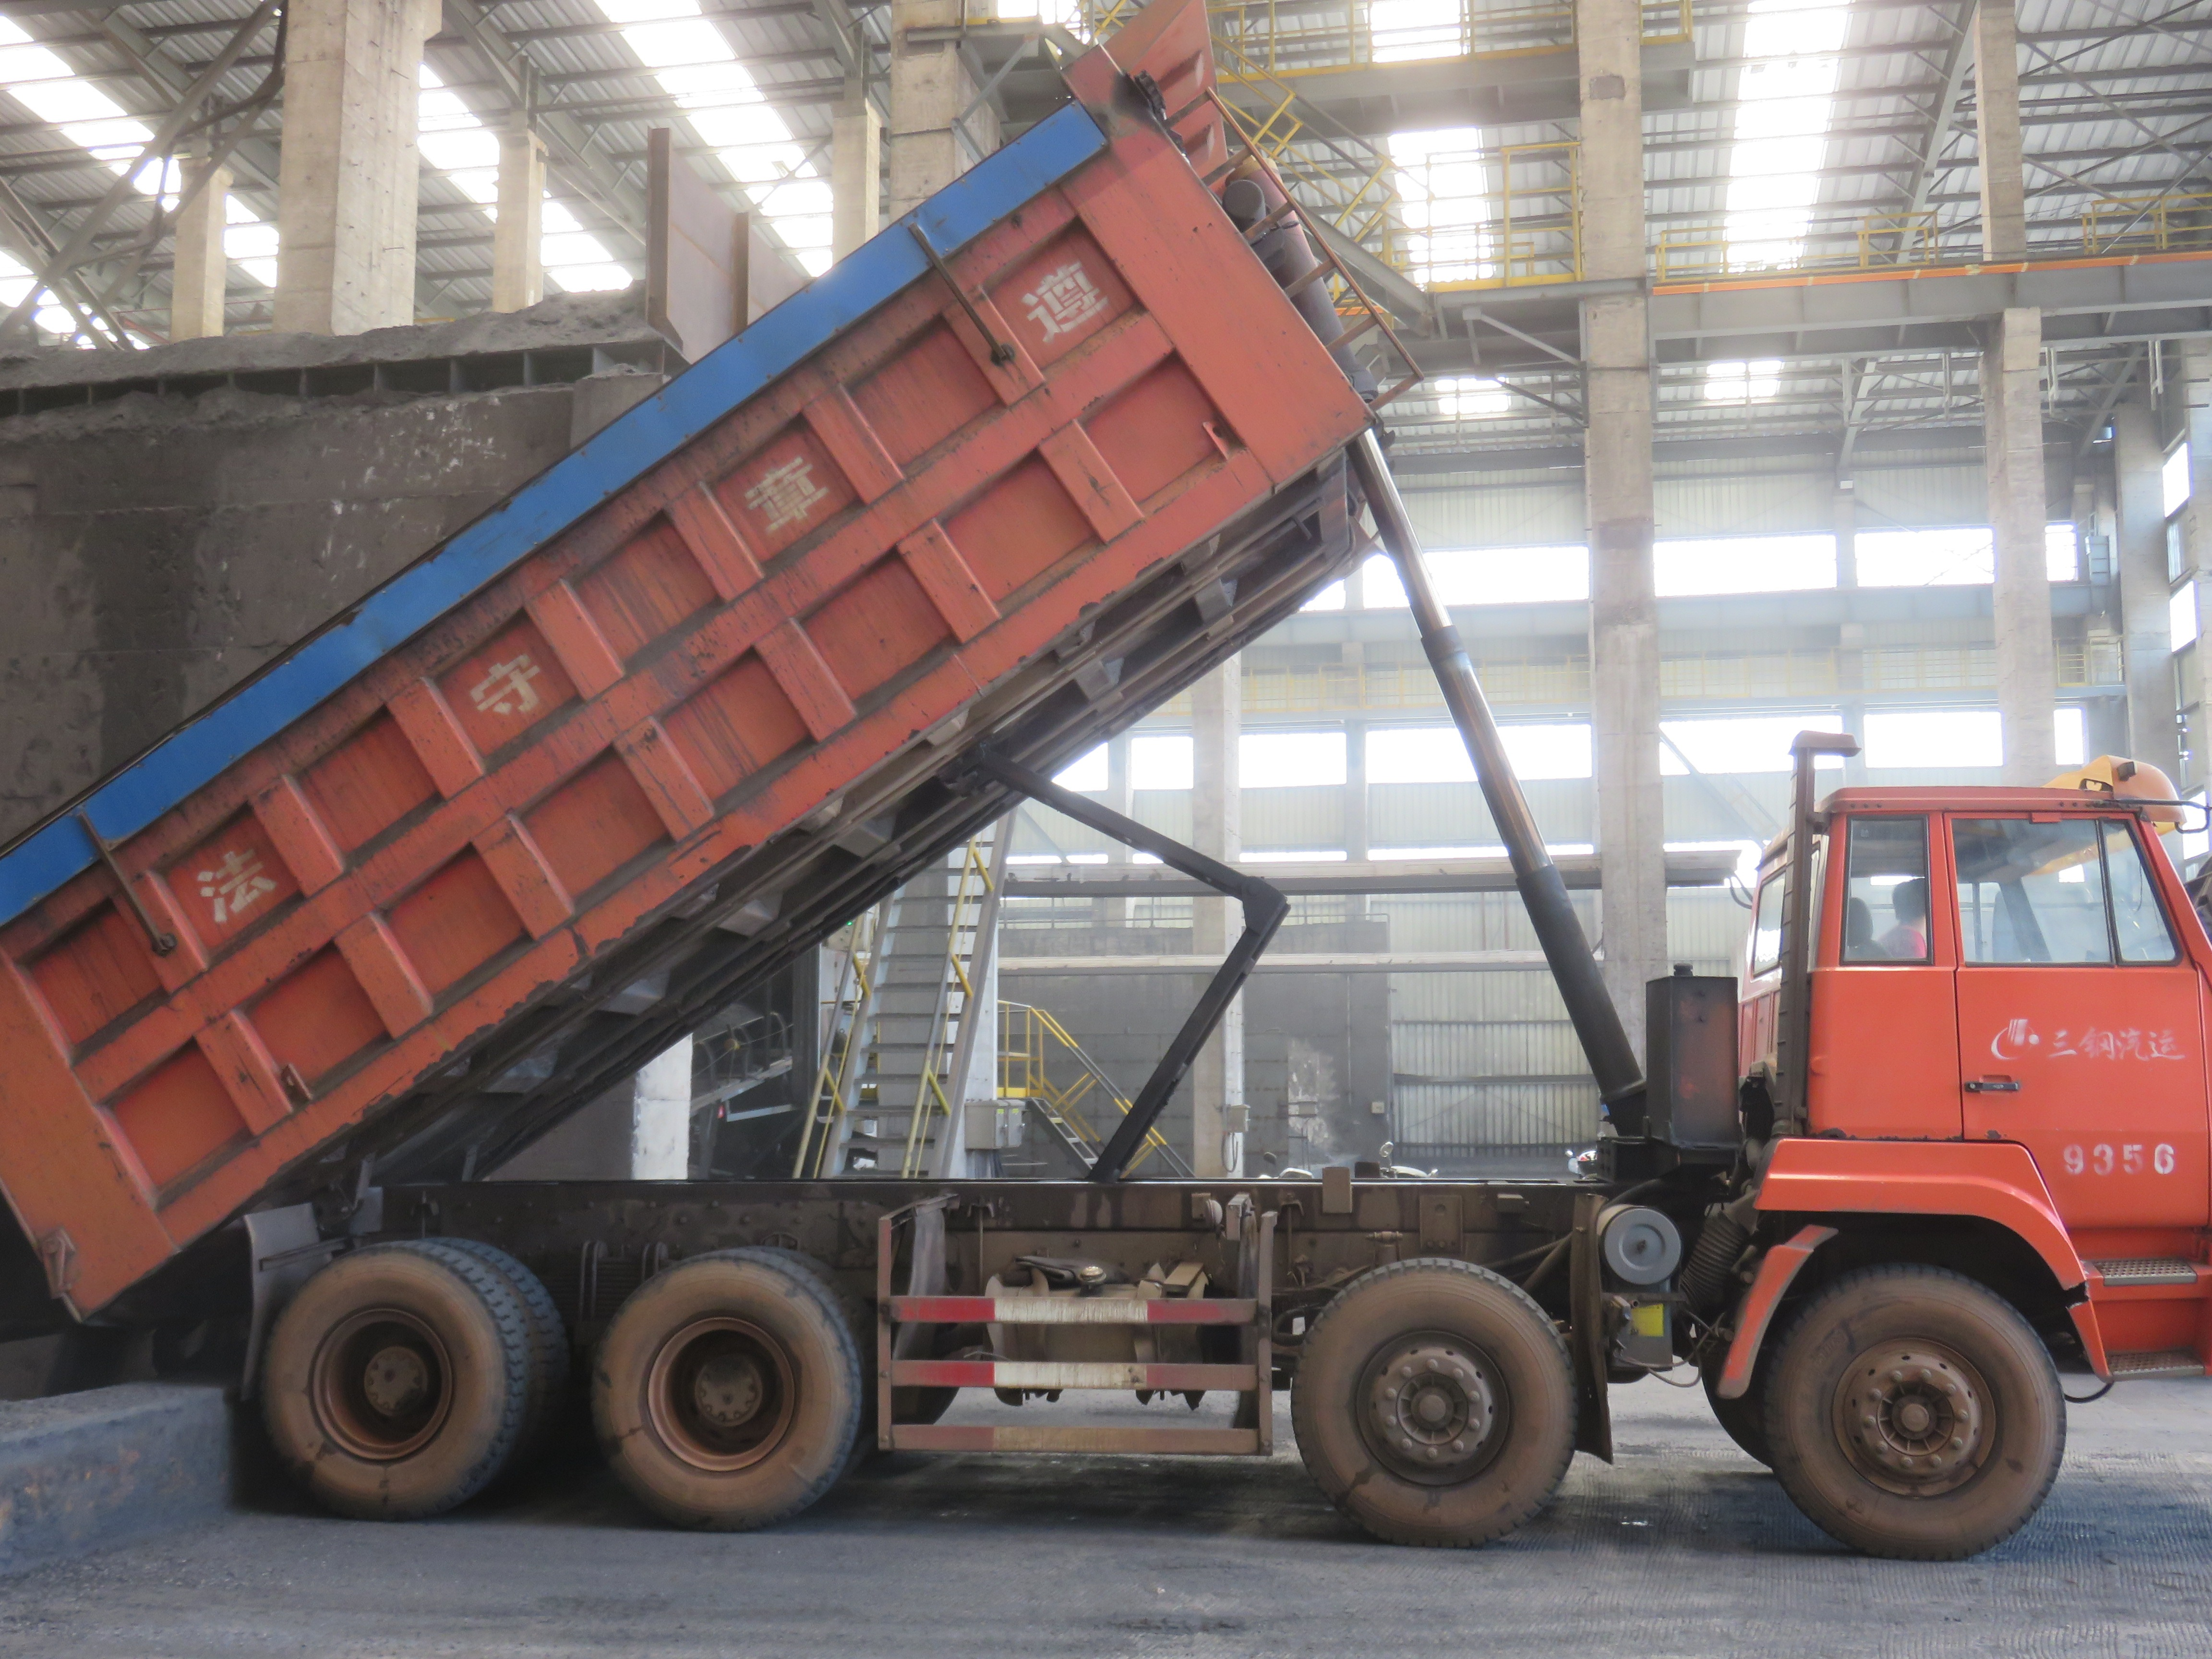truck: (0, 96, 2212, 1561)
